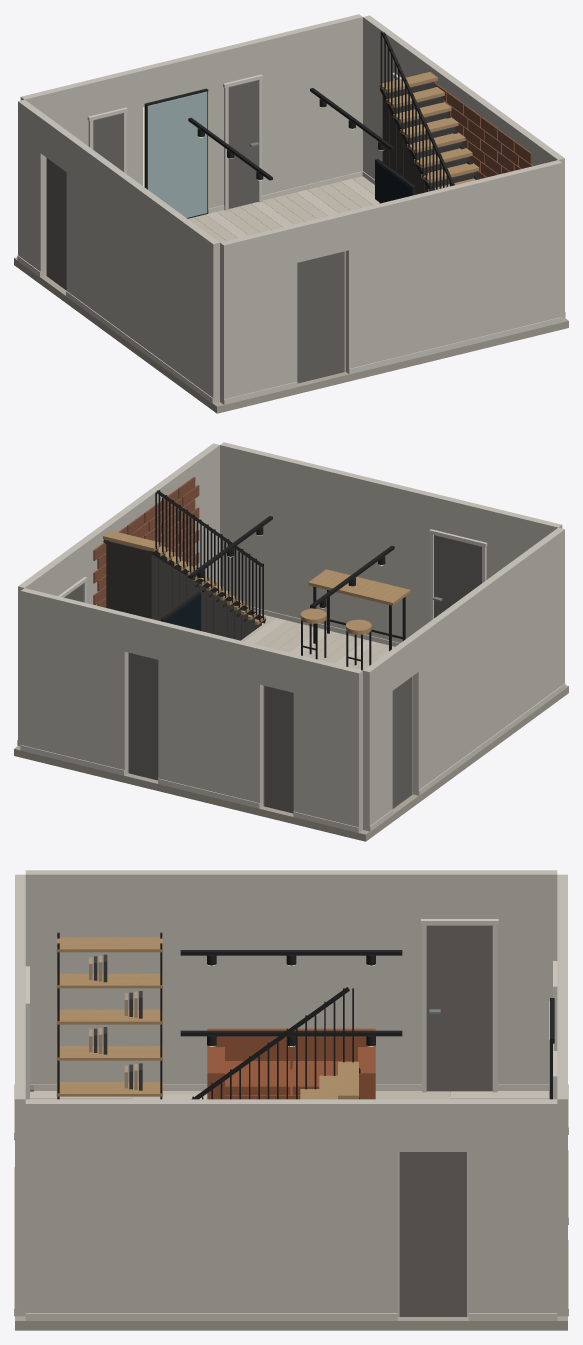
Rendered from prihozhaya.glb.
3 renders of one model, top to bottom at view 1: azimuth 30°, elevation 25°; view 2: azimuth 150°, elevation 25°; view 3: azimuth 270°, elevation 25°, orthographic. The views are drawn at different scales.
Visible parts, largest first — view 1: Штукатурка (×14), Зеркальное полотно, Веранда, Основание пола, Дверь 2, Плинтус (×3), Закрытое заполнение под лестницей (×4), Терраса / улица, Дверь 1, Наличник (×2), Линия потолочного света (потолок скрыт) (×2), Экран телевизора (+3 smaller); view 2: Штукатурка (×14), Основание пола, Дверь 1, Дверь 2, Закрытое заполнение под лестницей, Плинтус (×4), Веранда, Терраса / улица, Барная столешница, Линия потолочного света (потолок скрыт) (×2), Экран телевизора, Дубовая ступень (+1 smaller); view 3: Штукатурка (×9), Боковая дверь, Терраса / улица, Дубовая полка (×5), Основание пола, Плинтус (×3), Спинка, Подушка сиденья (×2), Линия потолочного света (потолок скрыт) (×2), Наличник (×2), Подлокотник (×2), Поручень (+2 smaller).
Part boxes in pixels (x1,y1,x2,y2): Штукатурка (×14): (18,14,564,404); Зеркальное полотно: (147,91,207,217); Веранда: (297,251,344,383); Основание пола: (14,257,568,413); Дверь 2: (228,80,258,208); Плинтус (×3): (66,171,562,403); Закрытое заполнение под лестницей (×4): (382,81,455,181); Терраса / улица: (47,158,66,290); Дверь 1: (93,113,122,171); Наличник (×2): (224,77,262,210); Линия потолочного света (потолок скрыт) (×2): (188,88,394,180); Экран телевизора: (375,161,411,202); Штукатурка (×14): (18,442,564,832); Основание пола: (14,685,568,841); Дверь 1: (264,686,293,813); Дверь 2: (129,653,158,780); Закрытое заполнение под лестницей: (106,541,158,620); Плинтус (×4): (20,607,565,808); Веранда: (434,534,481,618); Терраса / улица: (392,677,412,808); Барная столешница: (308,569,410,605); Линия потолочного света (потолок скрыт) (×2): (188,516,394,608); Экран телевизора: (164,594,200,630); Дубовая ступень: (103,530,161,551); Штукатурка (×9): (15,870,567,1316); Боковая дверь: (399,1152,466,1316); Терраса / улица: (426,925,492,1091); Дубовая полка (×5): (56,937,162,1096); Основание пола: (15,1092,567,1330); Плинтус (×3): (25,1084,557,1320); Спинка: (207,1028,375,1069); Подушка сиденья (×2): (225,1061,357,1095); Линия потолочного света (потолок скрыт) (×2): (180,950,402,1036); Наличник (×2): (422,923,497,1092); Подлокотник (×2): (207,1047,375,1095); Поручень: (191,987,349,1099).
Size of the model in its own units: 6.26 by 3.75 by 6.26.
Materials: 17 (1 with a texture image).
